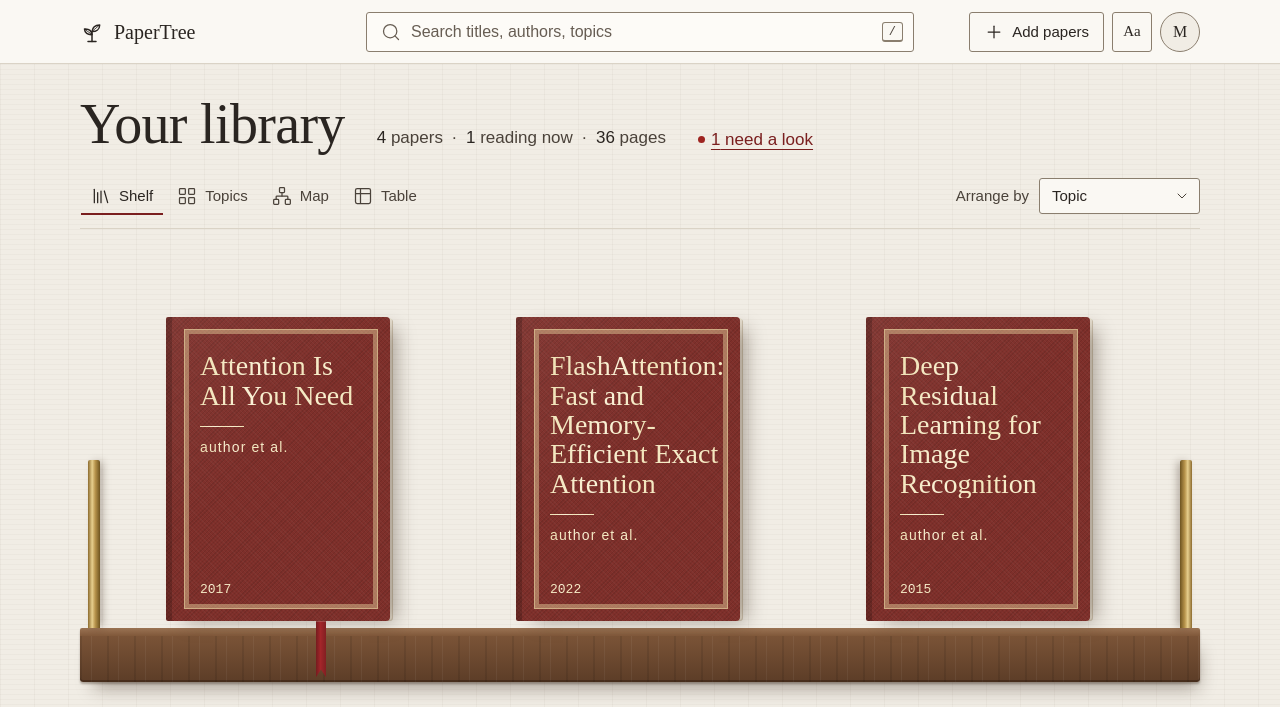
the header menus › Aa holds the theme switch; the account menu holds the email and Sign out
This screenshot has width=1280, height=707.
Click the button with aria-label "Reading settings".
click(1132, 32)  # box [1112,12,1152,52]
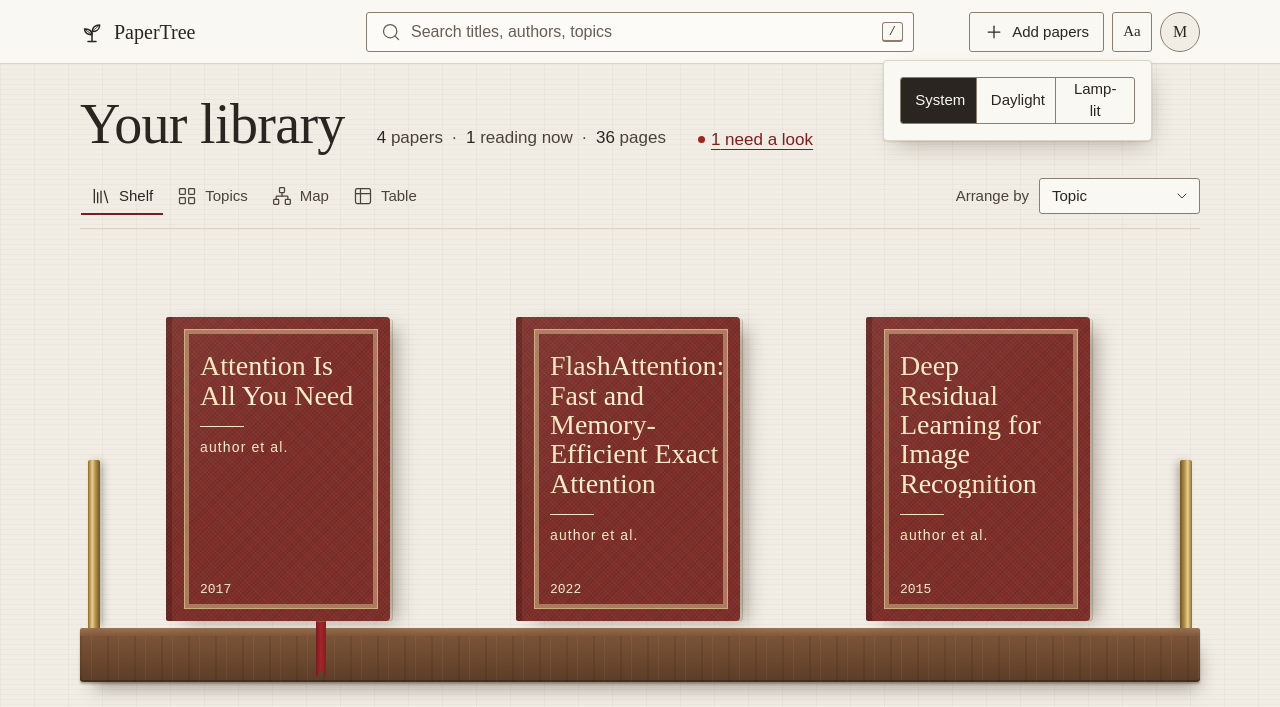
Expected: the element named "Colour scheme" is shown
Press Escape in the element named "Colour scheme", box [900,76,1135,124]
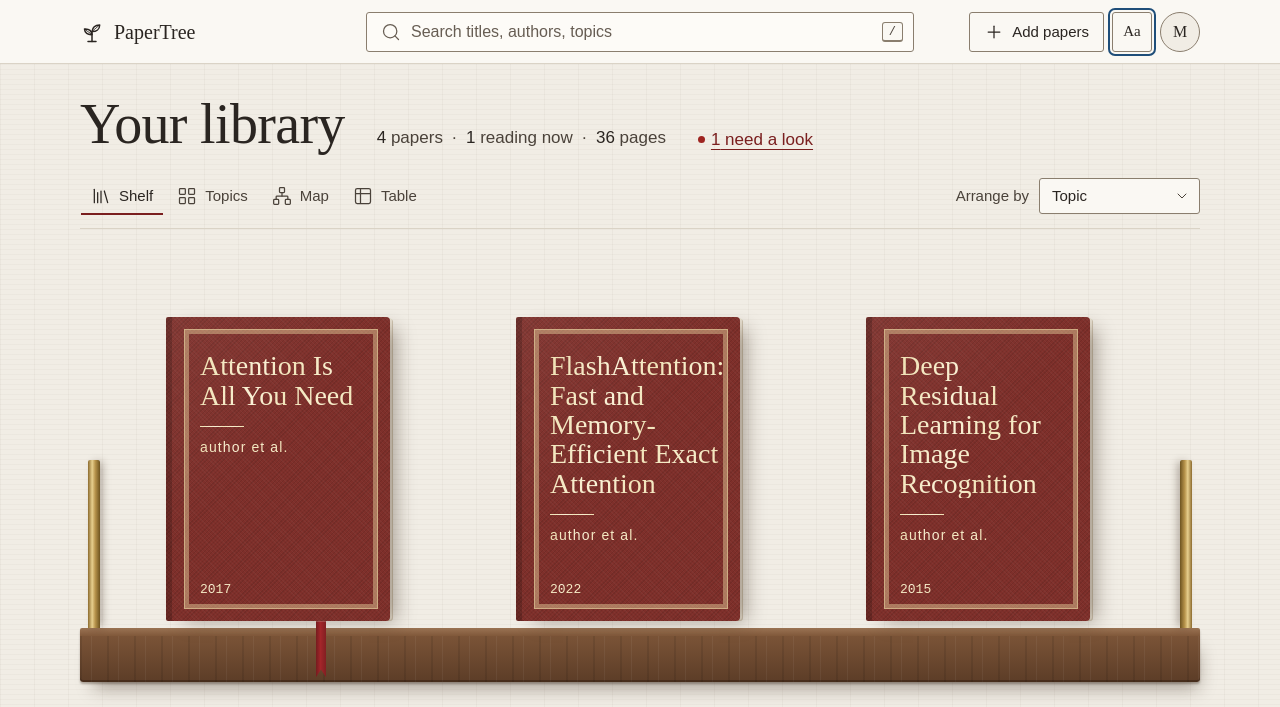
Click the button named "Account: mrigesh@example.test".
click(1180, 32)  # box [1160,12,1200,52]
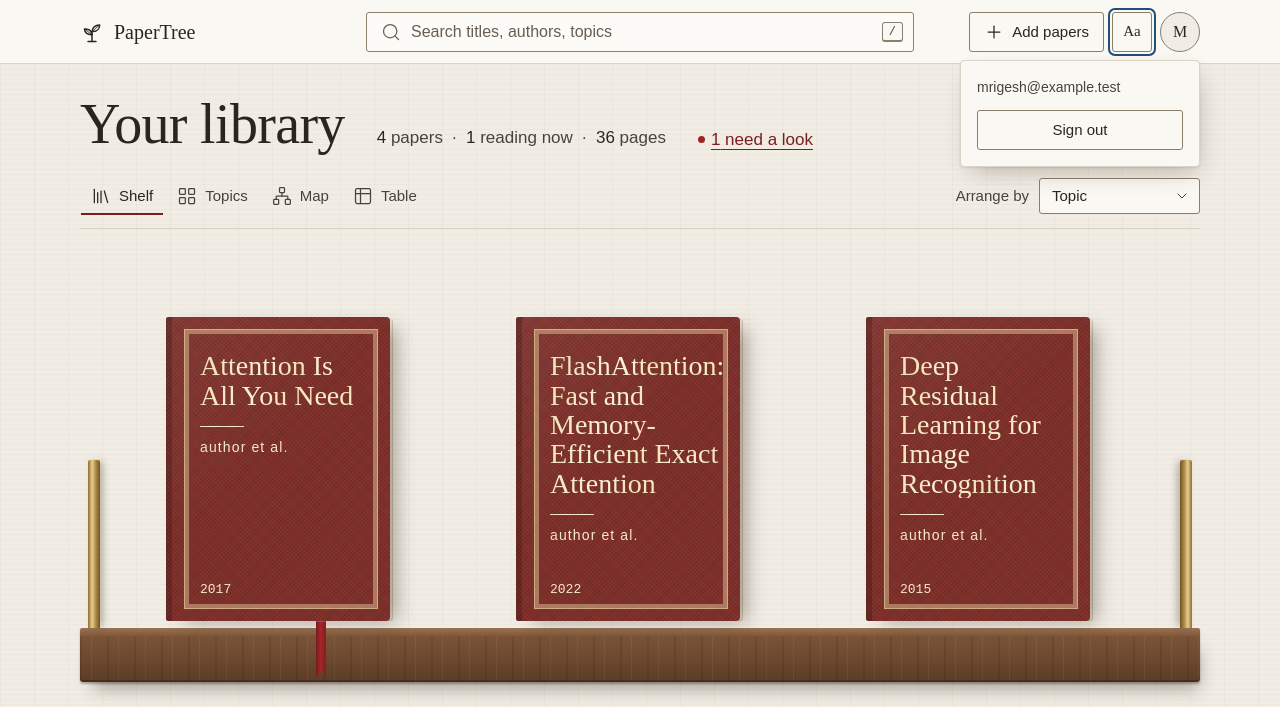
Expected: the text "mrigesh@example.test" is shown, [977,78,1120,94]
Expected: the button "Sign out" is shown, [977,110,1183,150]
